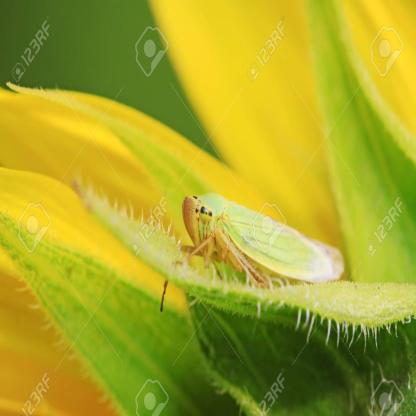Green-Leafhopper: (178, 190, 344, 299)
